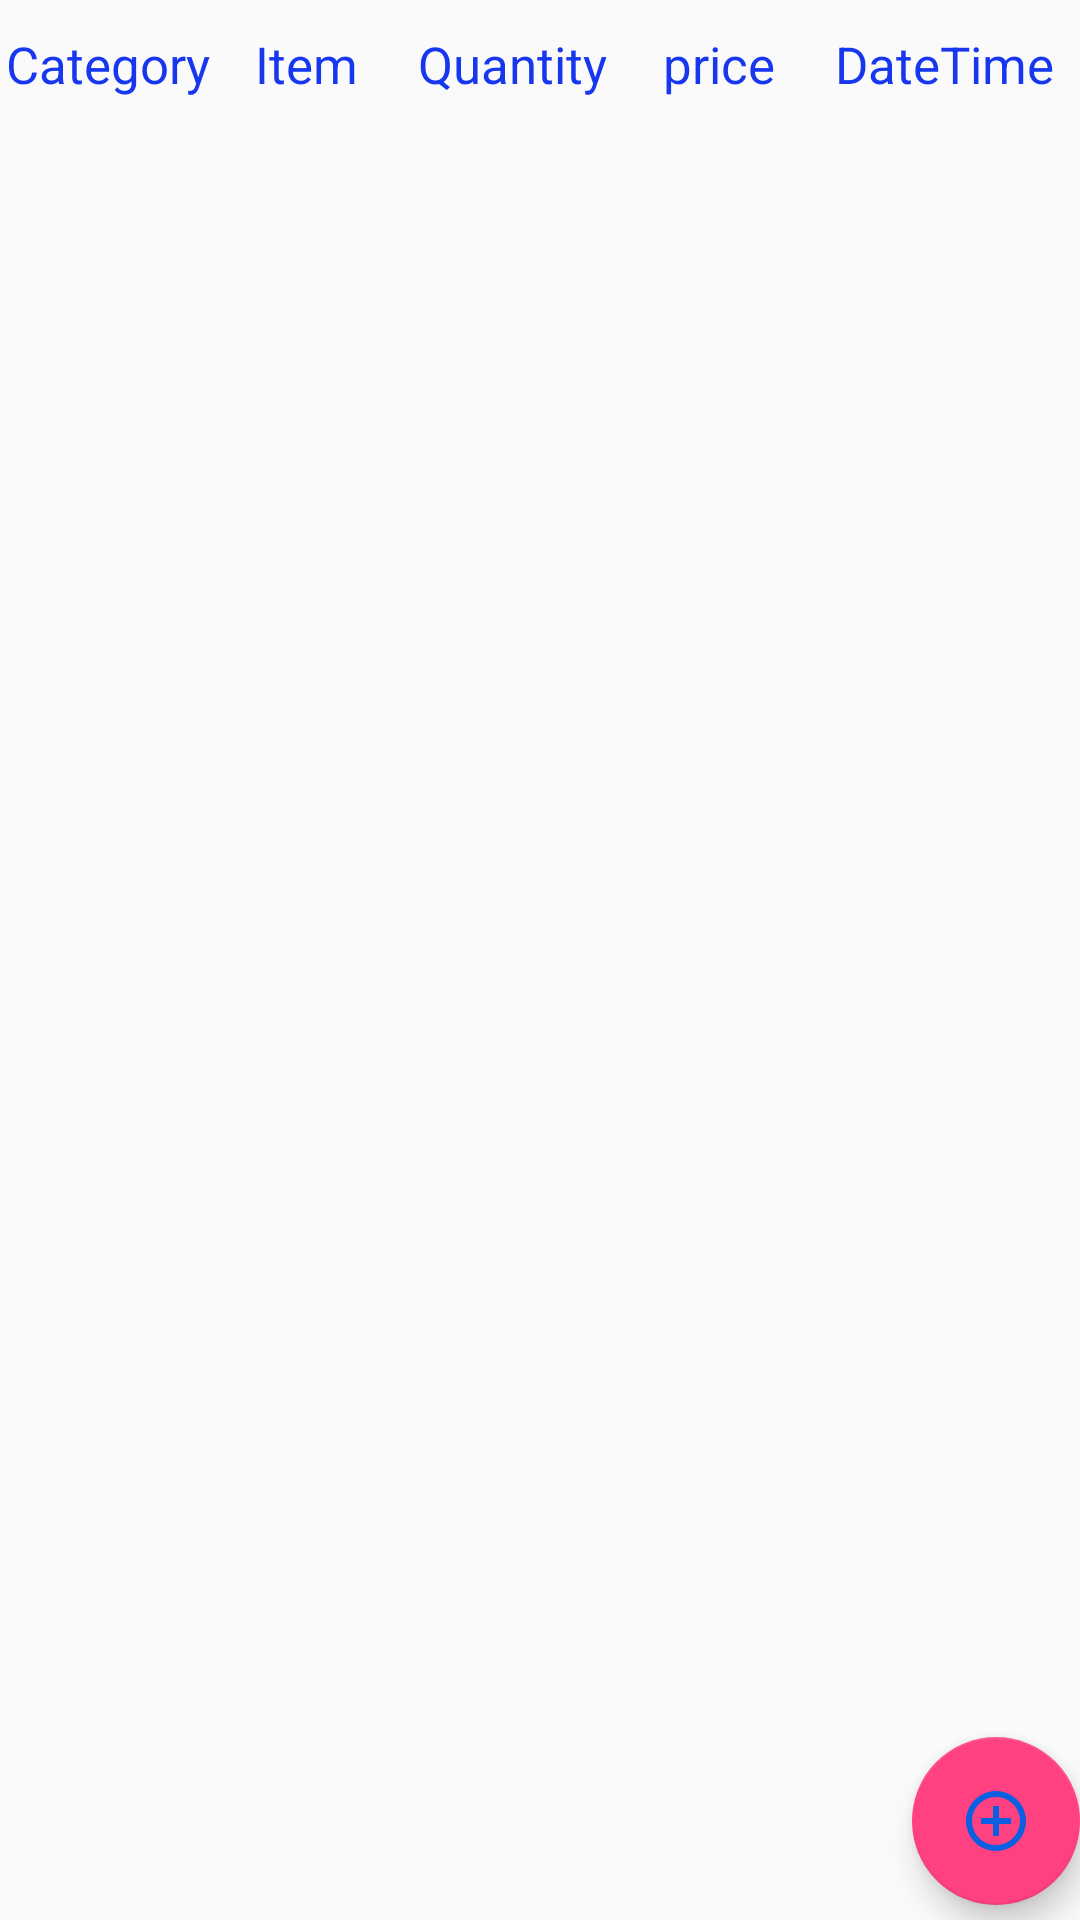

Named icons in this screenshot (1080×1920) and their centers, point (x, y):
plus: point (996, 1821)
